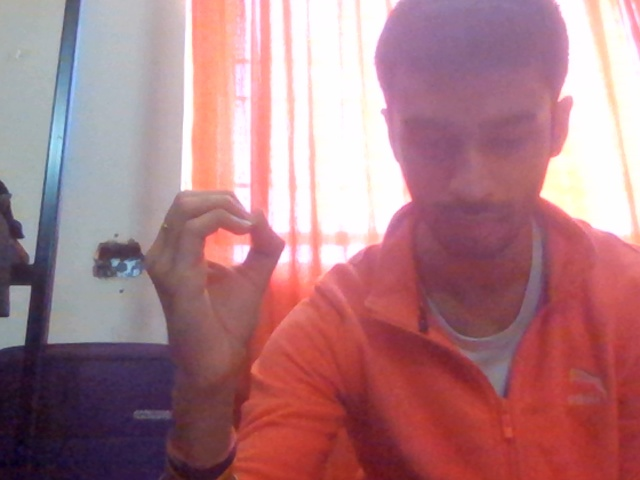O: (137, 145, 309, 432)
